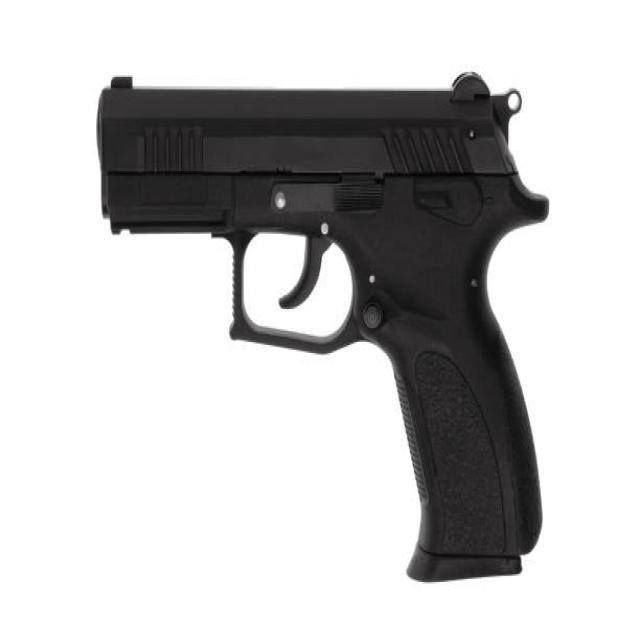pistol: (87, 62, 558, 593)
